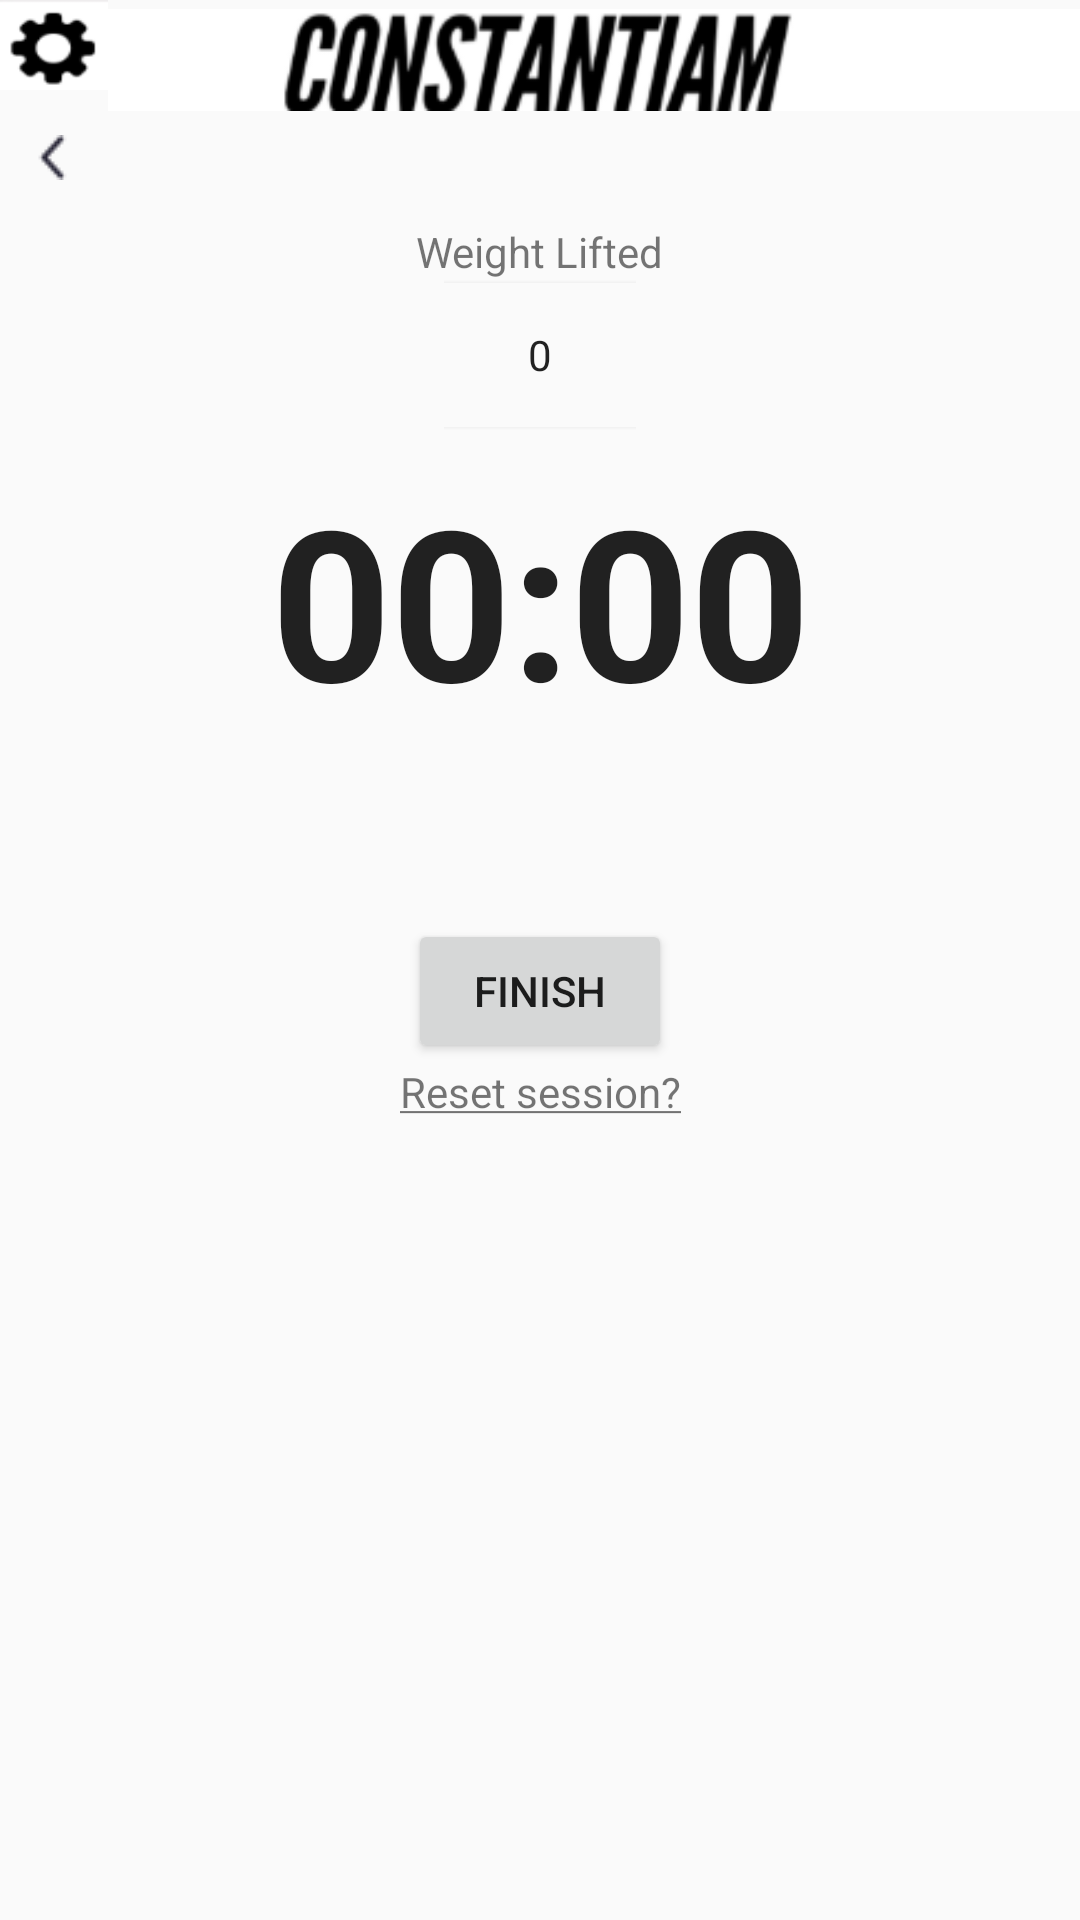

Point at icon controls on the screen. Image size 1080w x 1920h, points as (x,y).
back: (51,157)
settings: (53,48)
